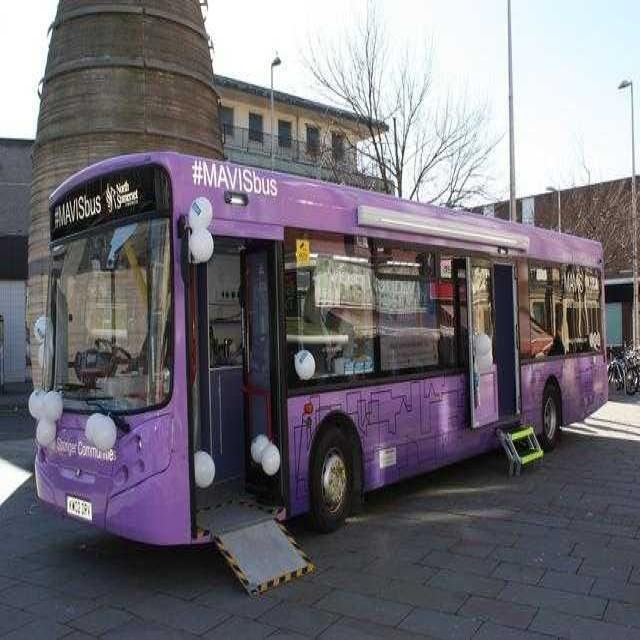Bus: (28, 140, 615, 592)
